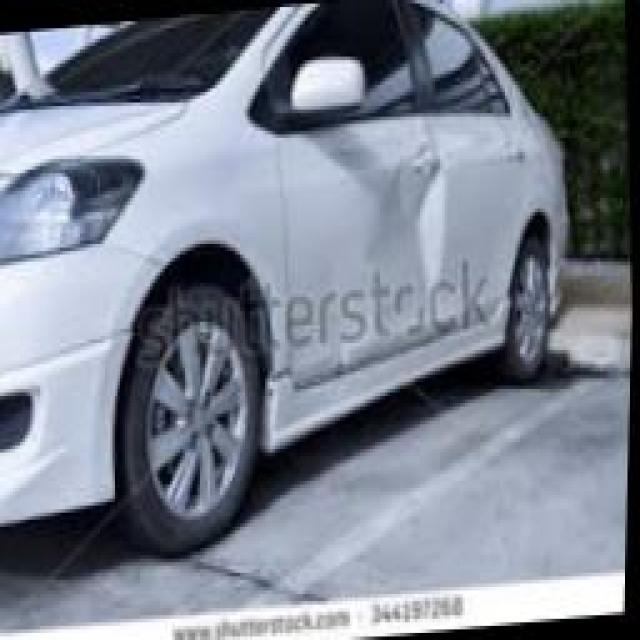rapairable: (345, 147, 456, 327)
